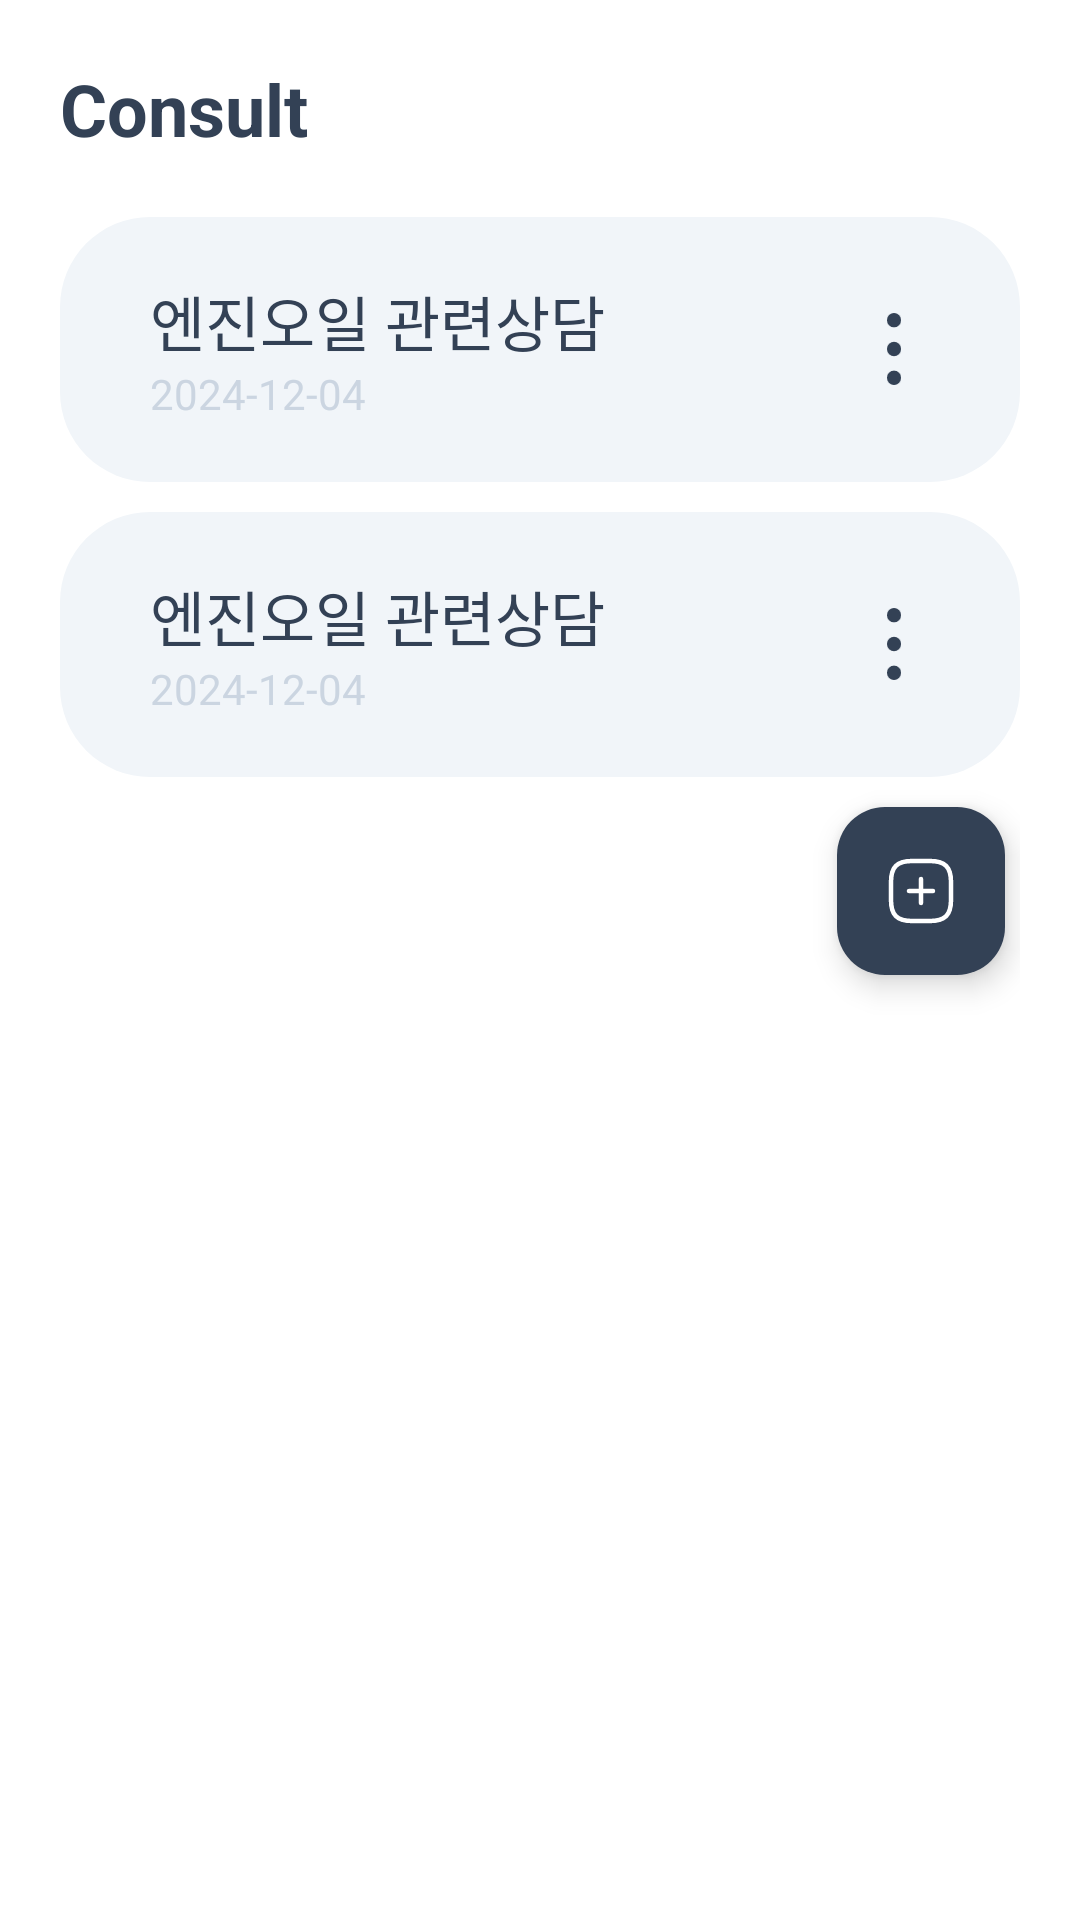

Named icons in this screenshot (1080×1920) and their bounding boxes, (x1, y1, x2, y2):
Add Consult: (837, 807, 1005, 975)
menu: (887, 313, 901, 385), (887, 608, 901, 680)
